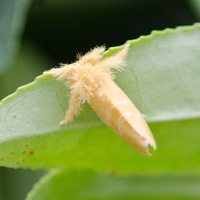insect: (43, 41, 155, 155)
